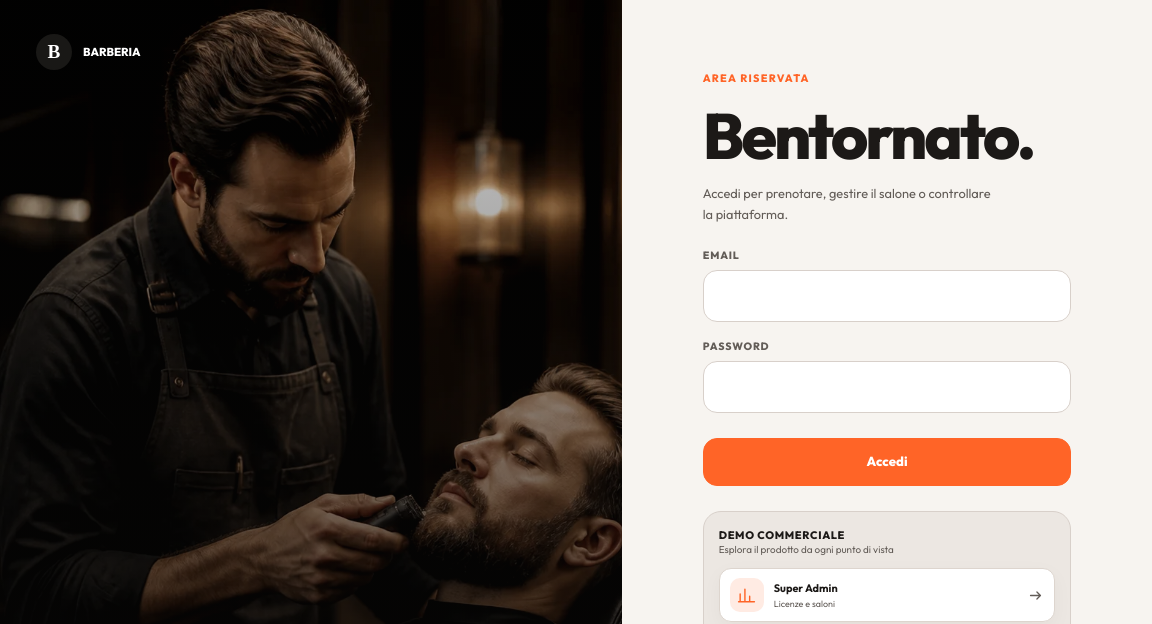
it: LoginPage › segnala un profilo non configurato senza lasciare una sessione aperta
Type "orphan@example.test" into the field labelled "Email".
click(887, 296); type("orphan@example.test")  # box [703,270,1071,322]
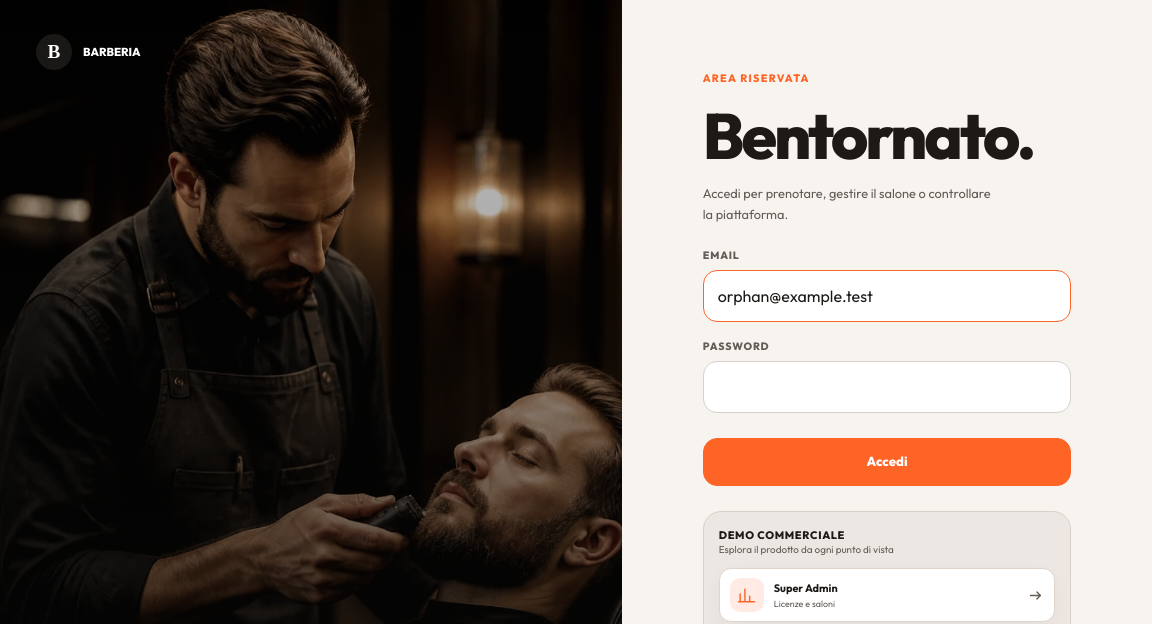
Type "password123" into the password field labelled "Password".
click(887, 387); type("password123")  # box [703,361,1071,413]
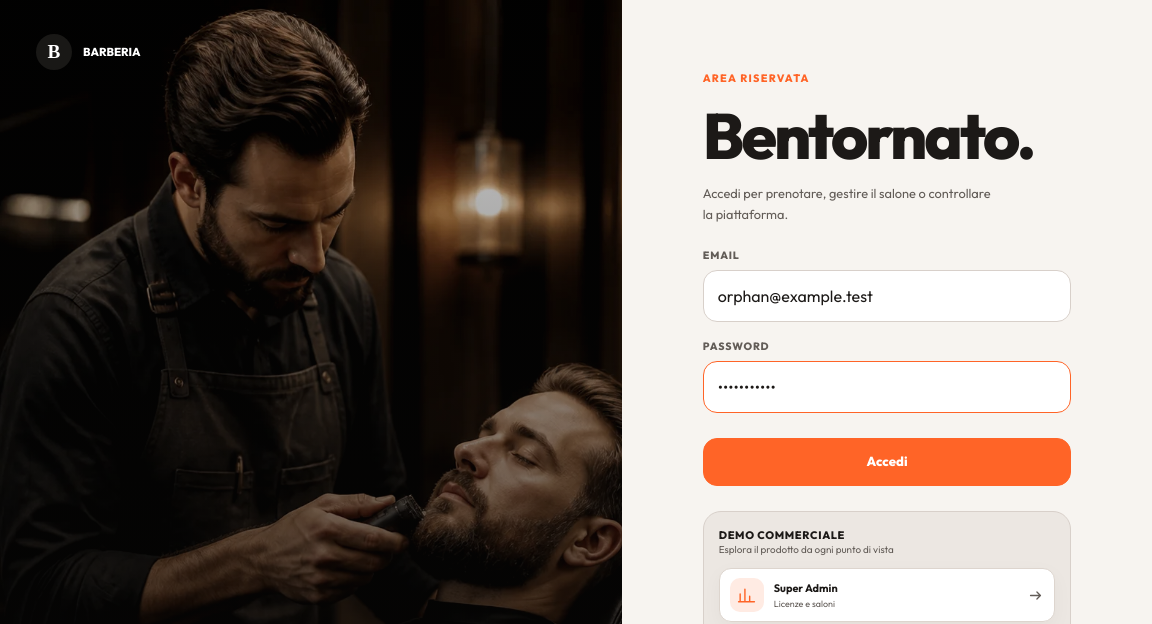
Click the button "Accedi".
click(887, 462)  # box [703,438,1071,486]
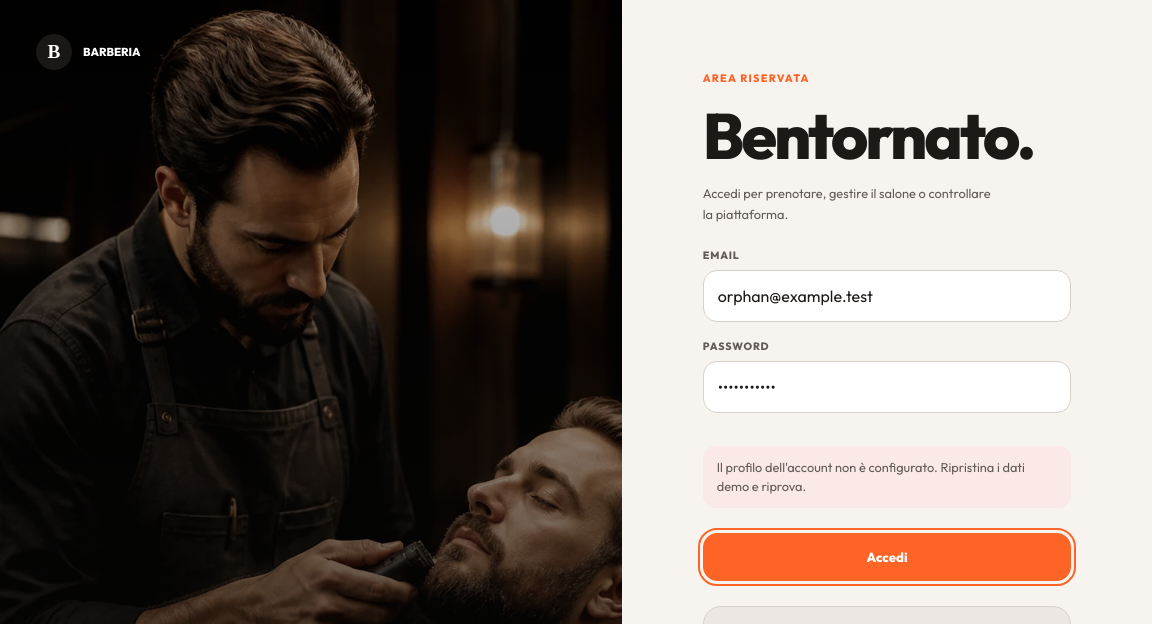
Now the text "Il profilo dell'account non è configurato. Ripristina i dati demo e riprova." is shown, box [703,446,1071,508]
